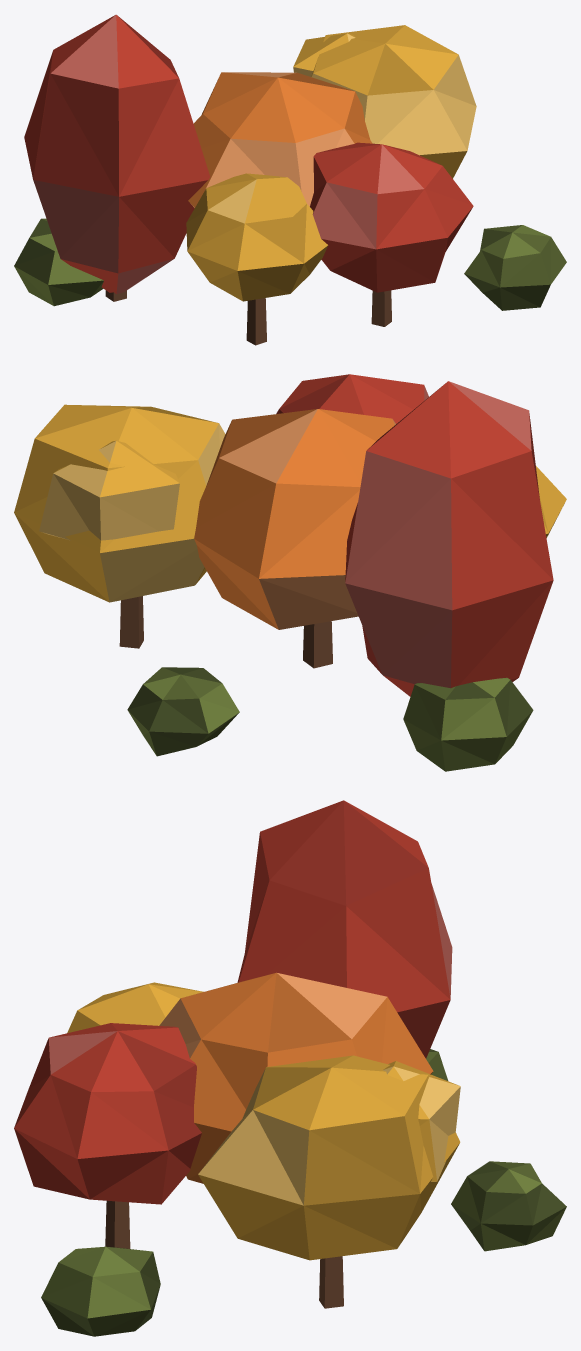
File: SM_TreeCluster_A.fbx
The picture shows the model from 3 angles, top to bottom: view 1: azimuth 30°, elevation 25°; view 2: azimuth 150°, elevation 25°; view 3: azimuth 270°, elevation 25°; orthographic projection. The views are drawn at different scales.
Parts seen in each view (by area): view 1: SM_TreeCluster_A; view 2: SM_TreeCluster_A; view 3: SM_TreeCluster_A.
Boxes of the visible parts, box(x1,y1,x2,y2) form: SM_TreeCluster_A: box(14, 14, 566, 345); SM_TreeCluster_A: box(14, 374, 566, 771); SM_TreeCluster_A: box(14, 800, 566, 1336).
Bounding box in the file's own units: 16.41 × 10.31 × 14.94.
